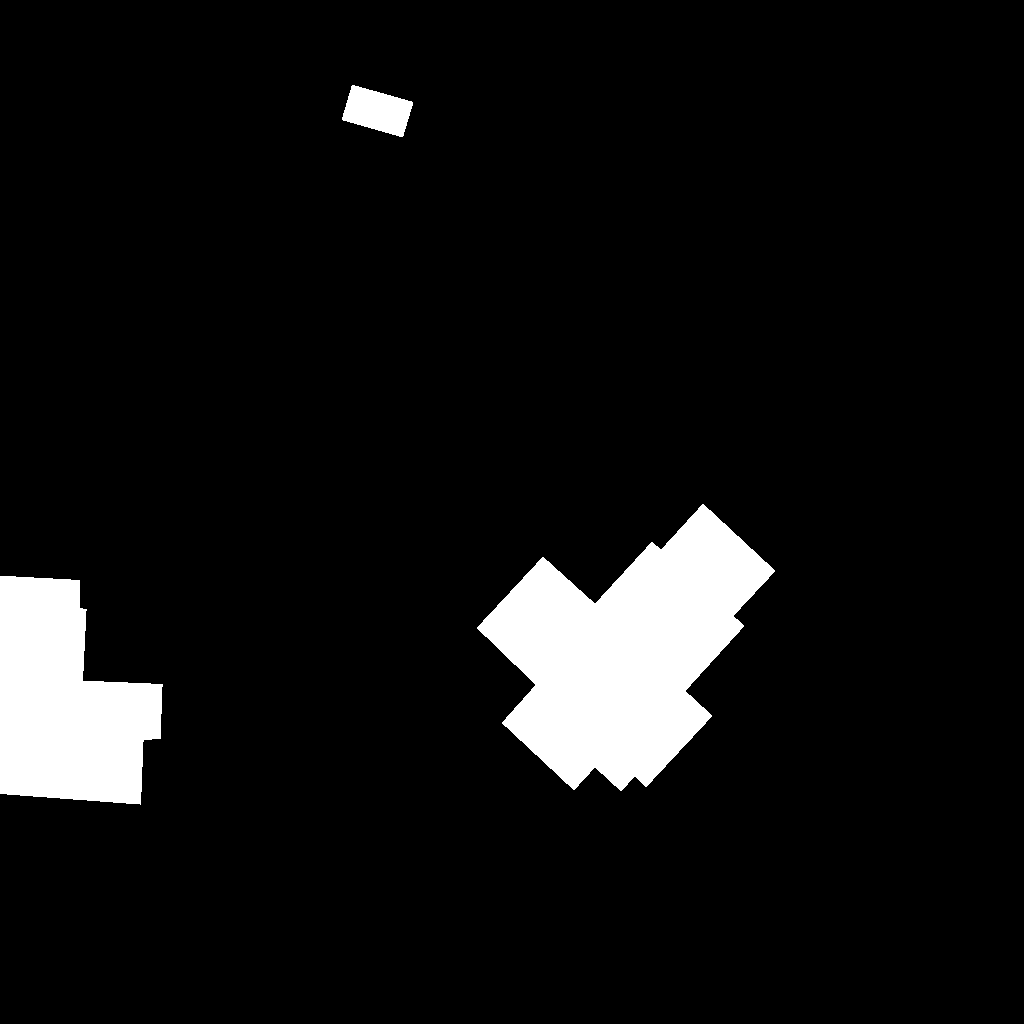building: (477, 504, 776, 792), (0, 576, 163, 805), (342, 85, 414, 138)
